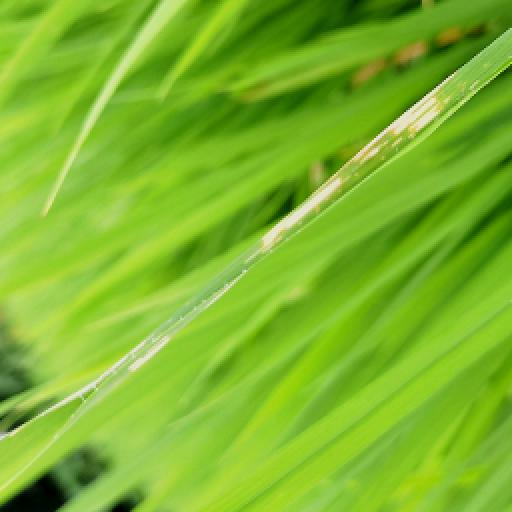Bacterial Leaf Blight: (338, 68, 458, 164), (80, 306, 188, 400), (258, 166, 348, 258), (192, 254, 248, 318)
